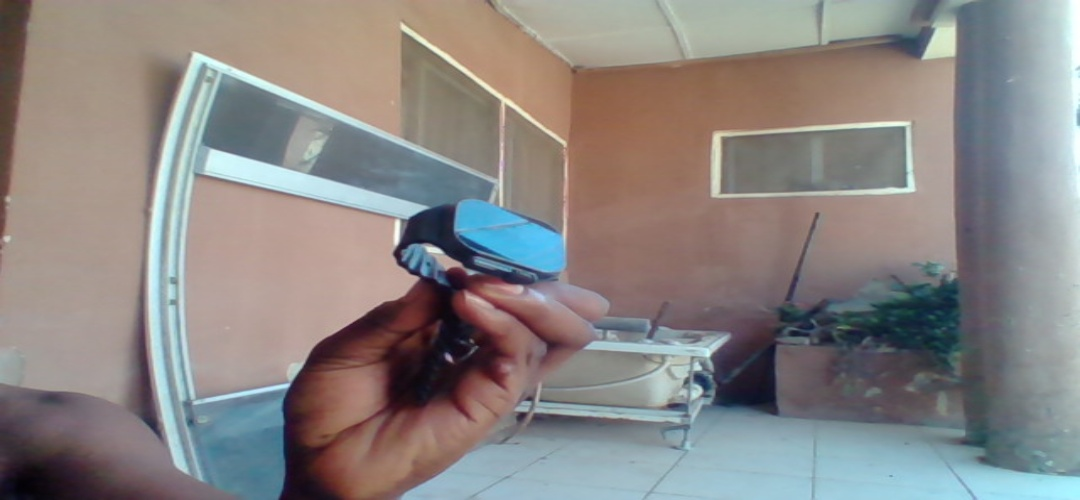smart_watch: (394, 197, 572, 283)
